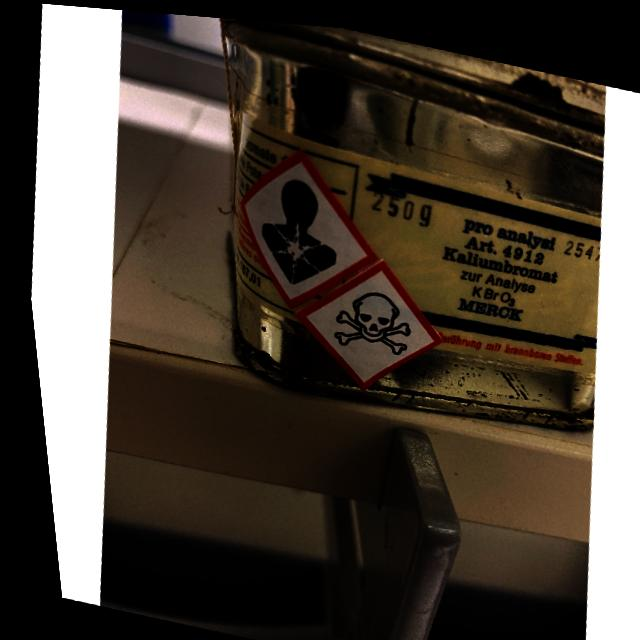acute toxicity: (323, 278, 411, 354)
serious health hazard: (245, 168, 345, 290)
